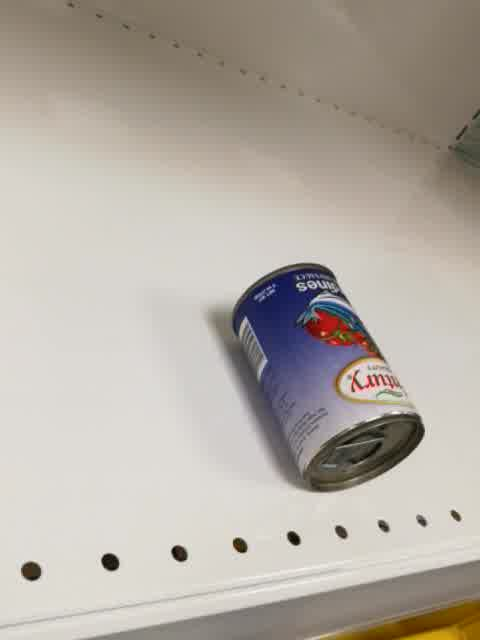sardine: (232, 263, 428, 494)
